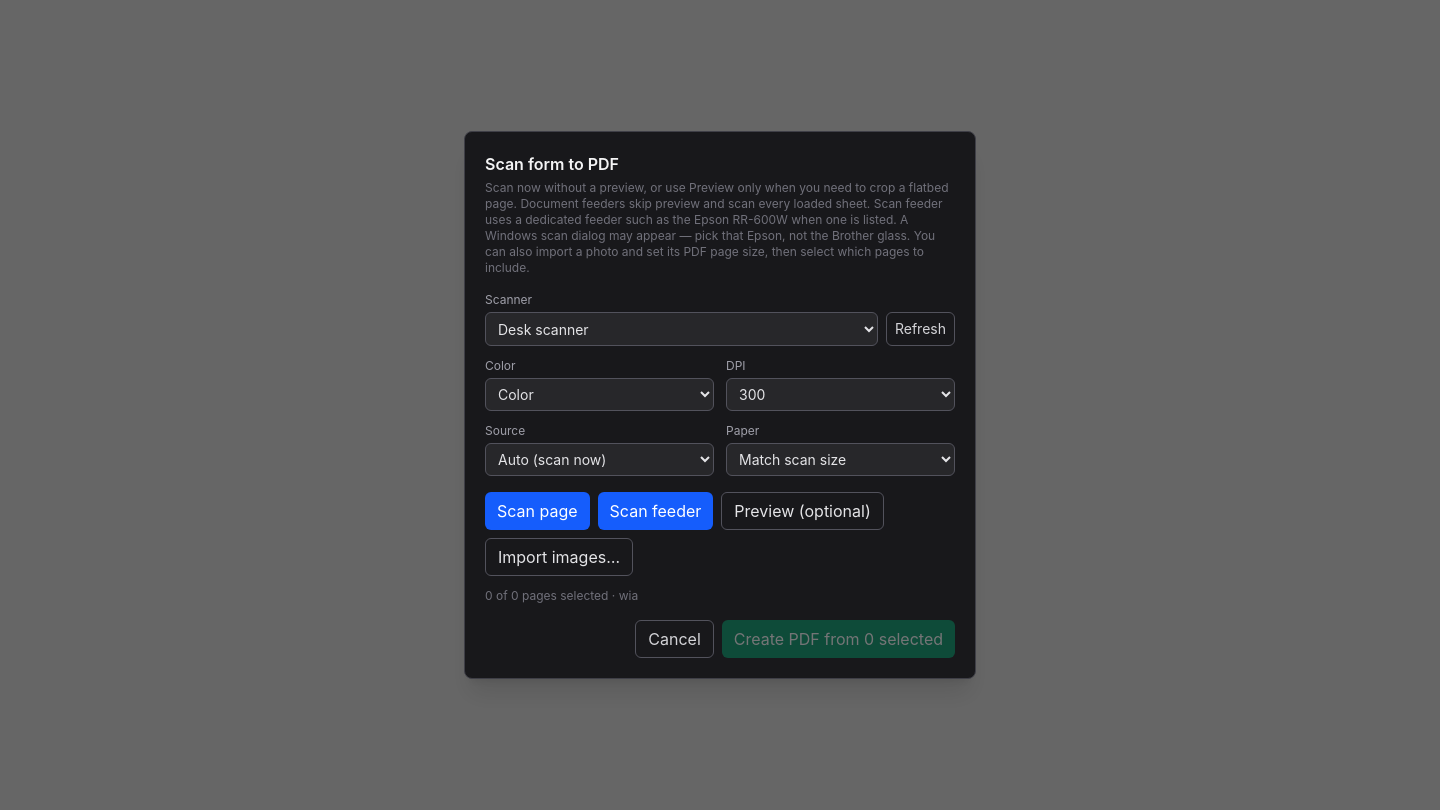
Scenario: ScanDialog › shows a feeder-specific error when the ADF capture fails
The image size is (1440, 810).
Click the button with test id "scan-page" at (656, 511), box [598,492,713,530]
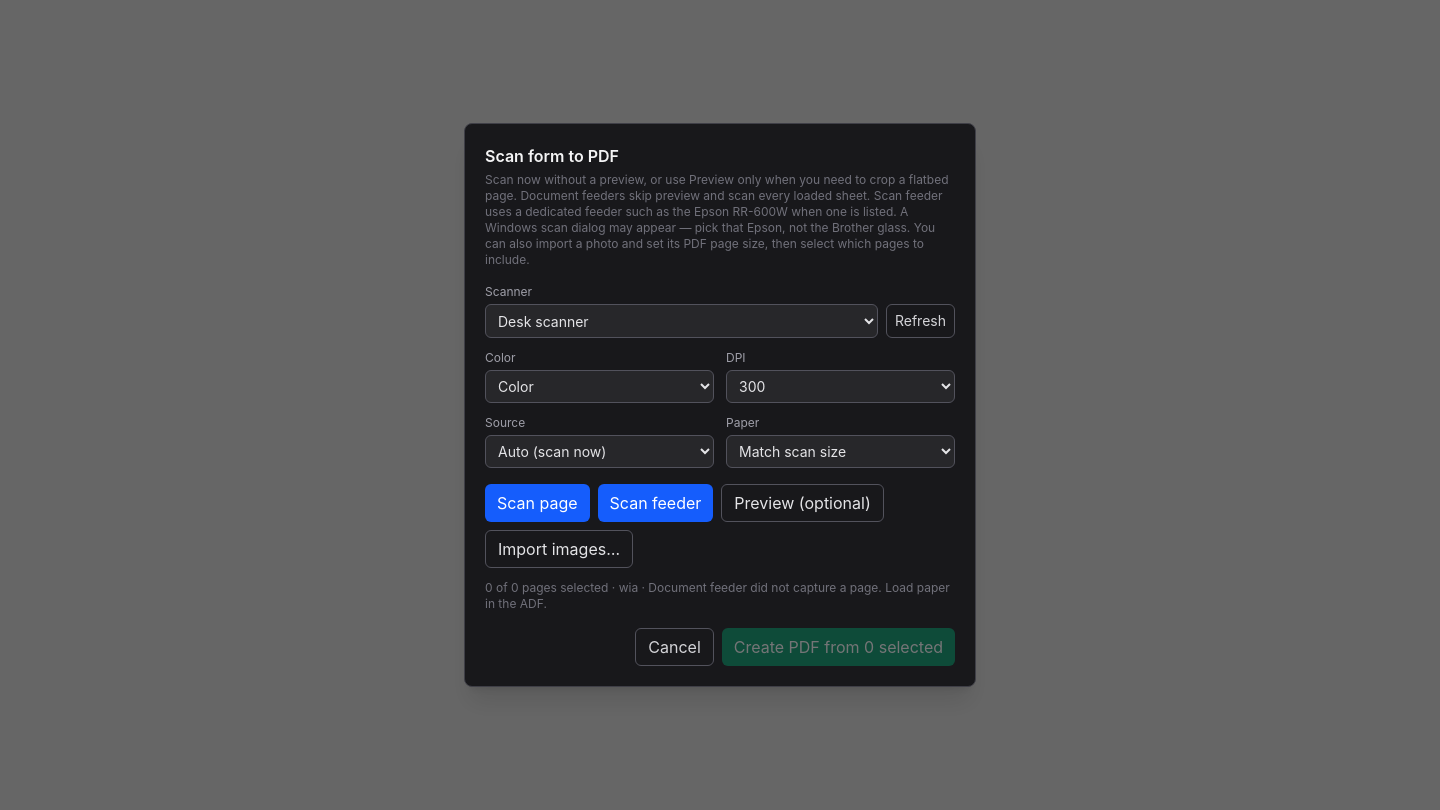
Now the text "Document feeder did not capture a page" is shown, box [485,580,950,611]
